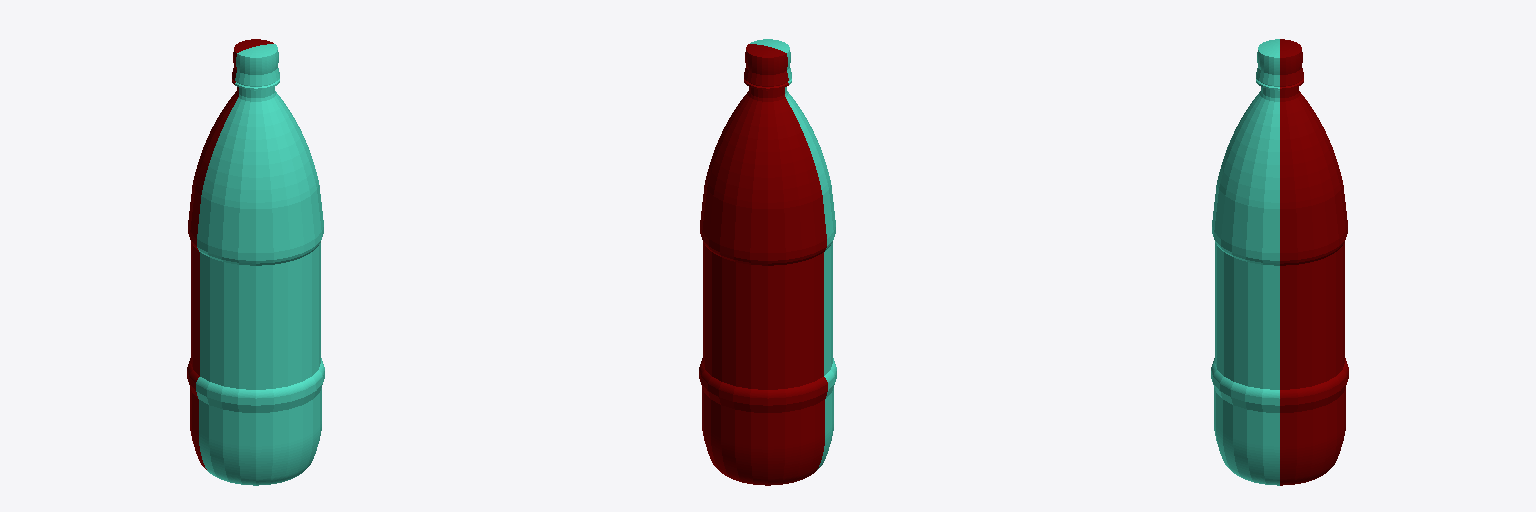
3 renders of one model, left to right at view 1: azimuth 30°, elevation 25°; view 2: azimuth 150°, elevation 25°; view 3: azimuth 270°, elevation 25°, orthographic.
Visible parts, largest first — view 1: Pepsi_Botlte_001, Pepsi_Botlte_002; view 2: Pepsi_Botlte_002, Pepsi_Botlte_001; view 3: Pepsi_Botlte_002, Pepsi_Botlte_001.
Part boxes in pixels (x1,y1,x2,y2): Pepsi_Botlte_001: (196, 44, 324, 485); Pepsi_Botlte_002: (187, 39, 273, 469); Pepsi_Botlte_002: (699, 44, 827, 485); Pepsi_Botlte_001: (750, 39, 836, 469); Pepsi_Botlte_002: (1280, 39, 1348, 485); Pepsi_Botlte_001: (1211, 39, 1279, 485).
Bounding box in the file's own units: 3.69 × 12.33 × 3.69.